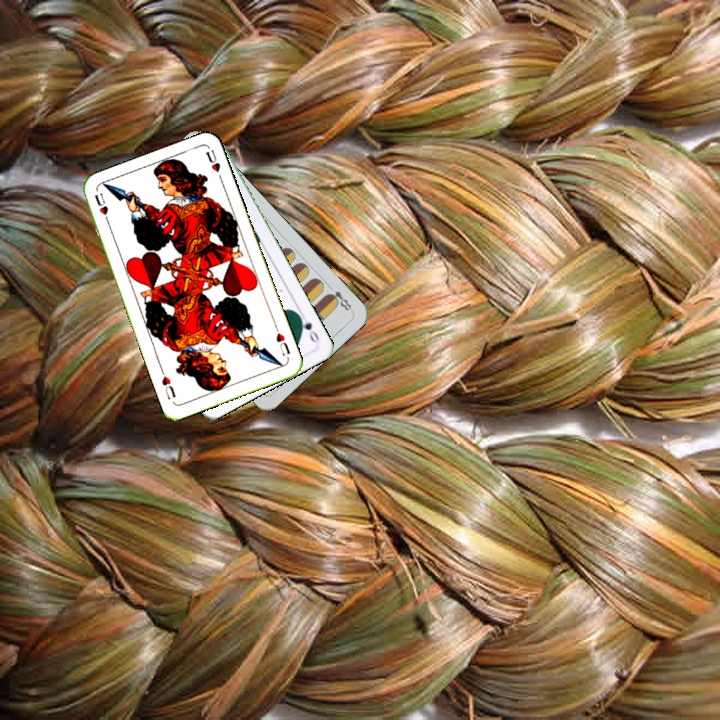E8: (323, 281, 355, 314)
GO: (294, 310, 322, 346)
HU: (90, 189, 112, 227), (272, 328, 293, 358)
